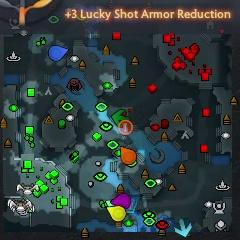Other: (119, 120, 134, 135)
p1: (49, 45, 69, 61)
p2: (106, 199, 114, 207)
p3: (110, 193, 131, 209)
p4: (106, 206, 126, 221)
p5: (120, 145, 137, 164)
x3: (175, 219, 192, 237)
x4: (112, 109, 130, 125)
